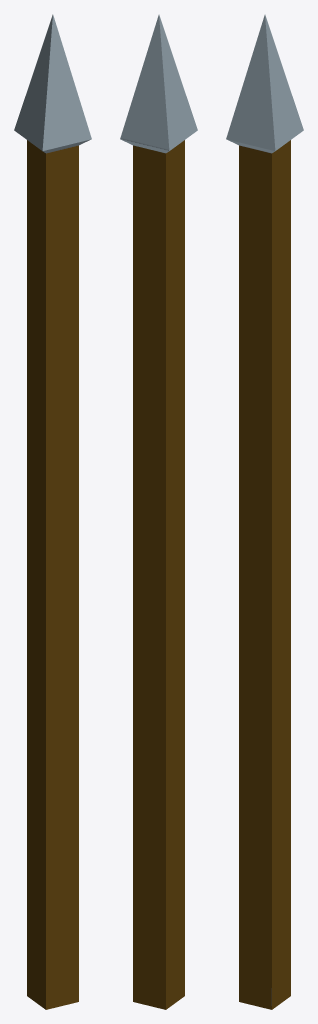
The model's file is Spear.fbx.
3 renders of one model, left to right at view 1: azimuth 30°, elevation 25°; view 2: azimuth 150°, elevation 25°; view 3: azimuth 330°, elevation 25°, orthographic.
Visible parts, largest first — view 1: Spear; view 2: Spear; view 3: Spear.
Boxes of the visible parts, bbox=[...] form: Spear: bbox=[14, 14, 91, 1009]; Spear: bbox=[120, 14, 197, 1009]; Spear: bbox=[226, 14, 303, 1009].
Bounding box in the file's own units: 4.23 × 80.69 × 4.23.
